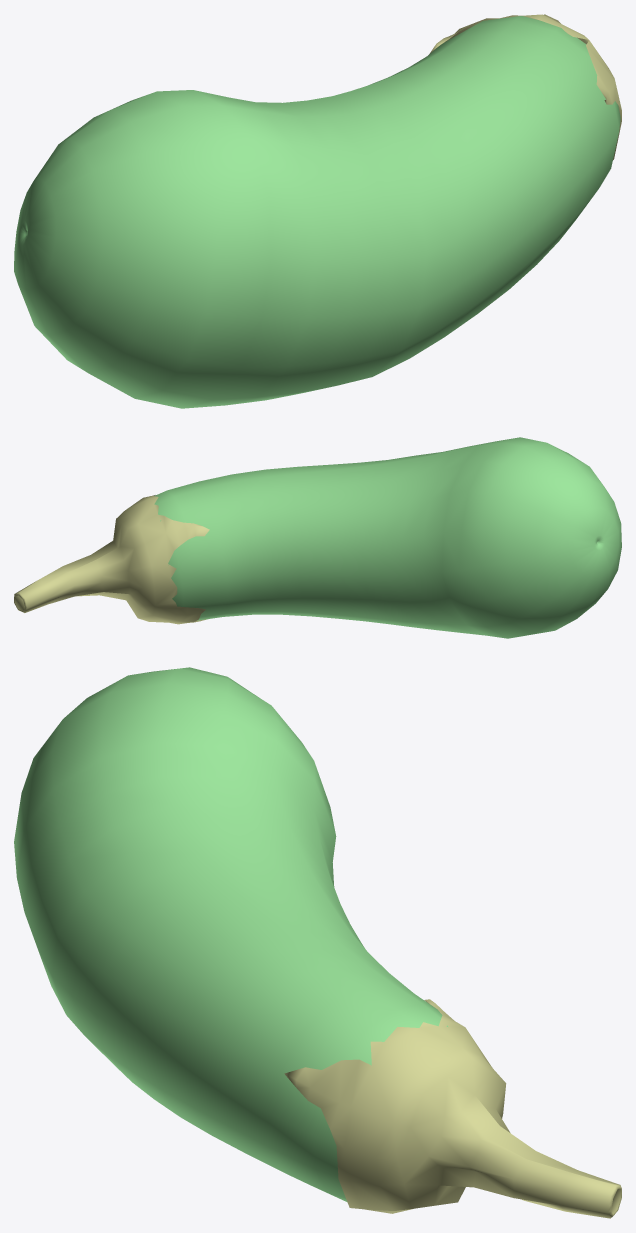
The model's file is Patlıcan.fbx.
3 views of the same model, one above another, from view 1: azimuth 30°, elevation 25°; view 2: azimuth 150°, elevation 25°; view 3: azimuth 270°, elevation 25° (orthographic). The views are drawn at different scales.
Visible parts, largest first — view 1: Patlıcan, Patlıcan_Sap; view 2: Patlıcan, Patlıcan_Sap; view 3: Patlıcan, Patlıcan_Sap.
Part boxes in pixels (<box>): Patlıcan: <box>14,16,620,408</box>; Patlıcan_Sap: <box>429,14,621,159</box>; Patlıcan: <box>154,437,621,638</box>; Patlıcan_Sap: <box>14,495,209,624</box>; Patlıcan: <box>14,667,447,1201</box>; Patlıcan_Sap: <box>284,999,621,1218</box>.
Bounding box in the file's own units: 196 × 76.76 × 138.
